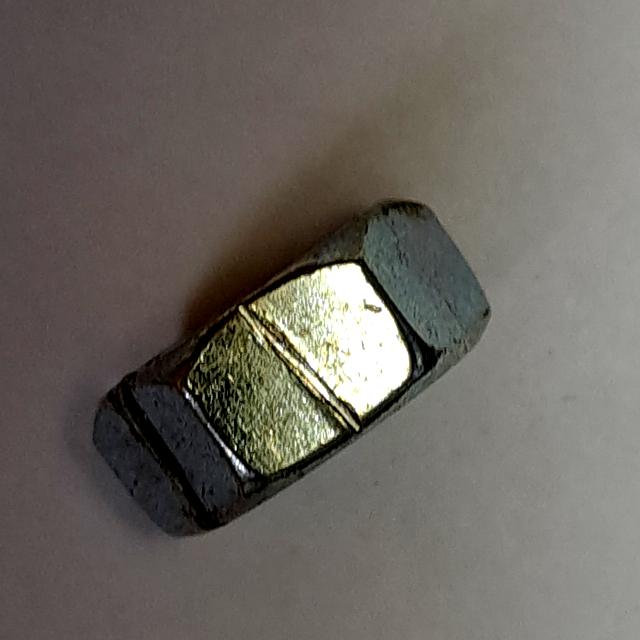Side_Scratches: (83, 188, 499, 558)
